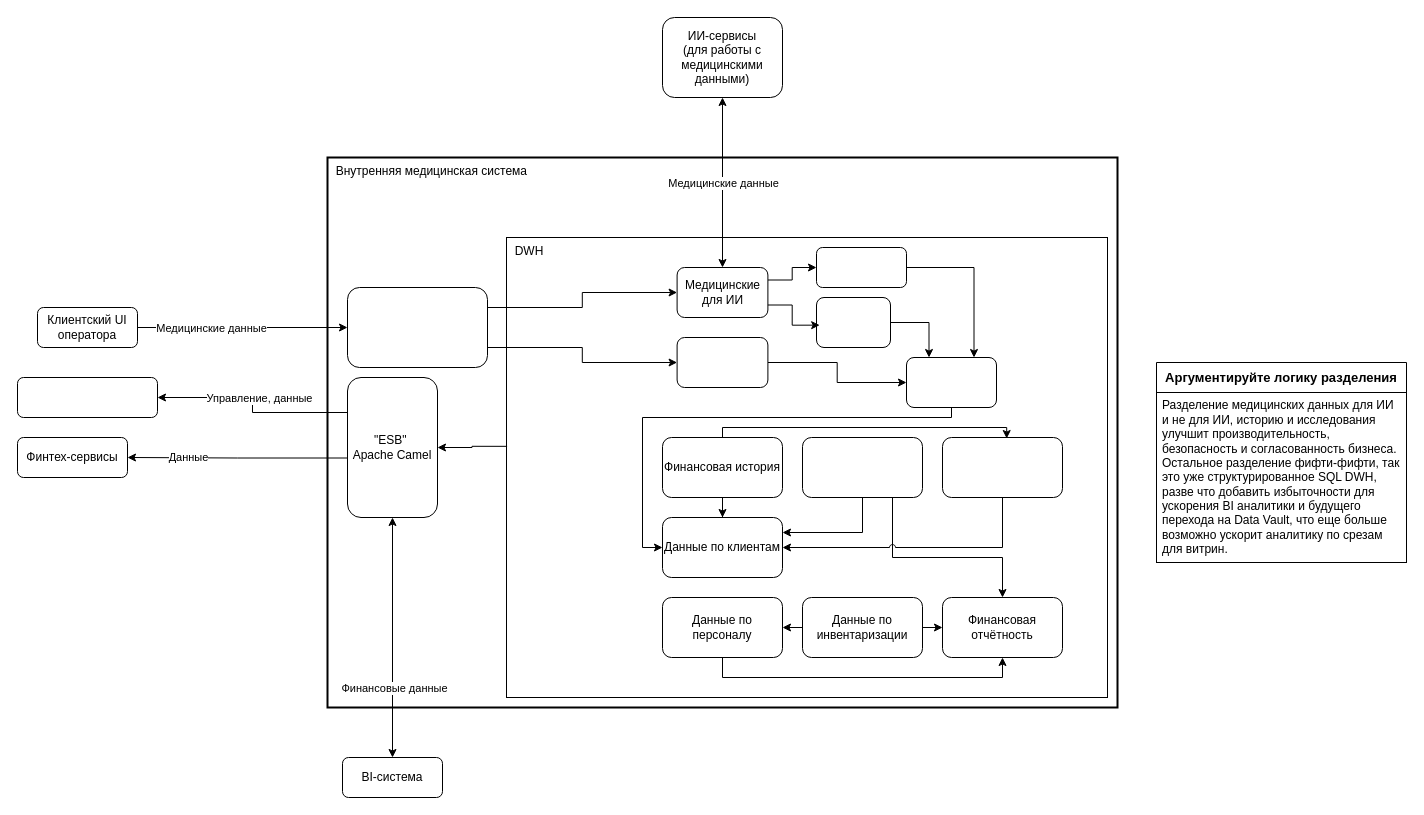
Image size: 1424x815. Some labels were removed from this diagram. The shapes that lost their labels are listed below. From the top down, each one's centre as x and y in pixels, then its label:
pixel 861 267: Данные исследований
pixel 417 327: Интерфейс на Power Builder для прямой работы операторов в клиниках
pixel 853 322: Истории болезни
pixel 722 362: Медицинские не для ИИ
pixel 951 382: Медицинские карты
pixel 87 397: Внутренние сервисы
pixel 862 467: Счета (хз что это)
pixel 1002 467: Данные о кредитах
